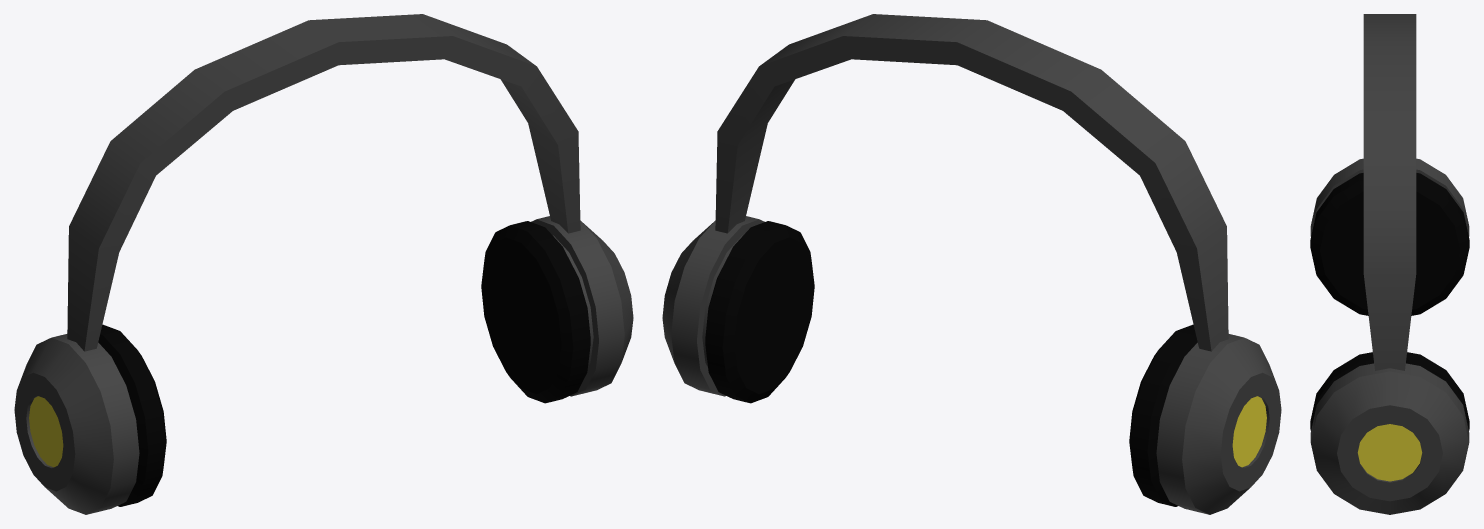
The model's file is HAT_Headphone.fbx.
The picture shows the model from 3 angles, left to right: view 1: azimuth 30°, elevation 25°; view 2: azimuth 150°, elevation 25°; view 3: azimuth 270°, elevation 25°; orthographic projection. The views are drawn at different scales.
Parts seen in each view (by area): view 1: Headphone; view 2: Headphone; view 3: Headphone.
Boxes of the visible parts, x1=… form: Headphone: x1=14, y1=14, x2=633, y2=514; Headphone: x1=662, y1=14, x2=1281, y2=514; Headphone: x1=1310, y1=14, x2=1469, y2=514.
Size of the model in its own units: 90.78 by 64.57 by 25.69.
